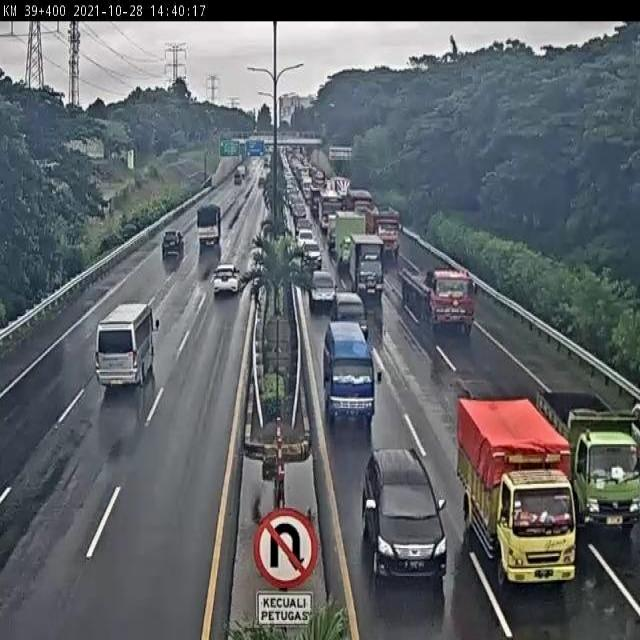Bus: (319, 192, 342, 235)
Car: (361, 450, 447, 583), (329, 290, 367, 336), (308, 269, 338, 313), (212, 263, 241, 296), (162, 230, 184, 257), (302, 240, 321, 268)
Truck: (455, 395, 576, 580), (537, 384, 640, 533), (402, 263, 476, 340), (346, 234, 385, 303), (330, 210, 366, 268), (369, 207, 402, 262), (196, 204, 222, 248)
Van: (322, 321, 376, 427), (95, 302, 158, 388)
